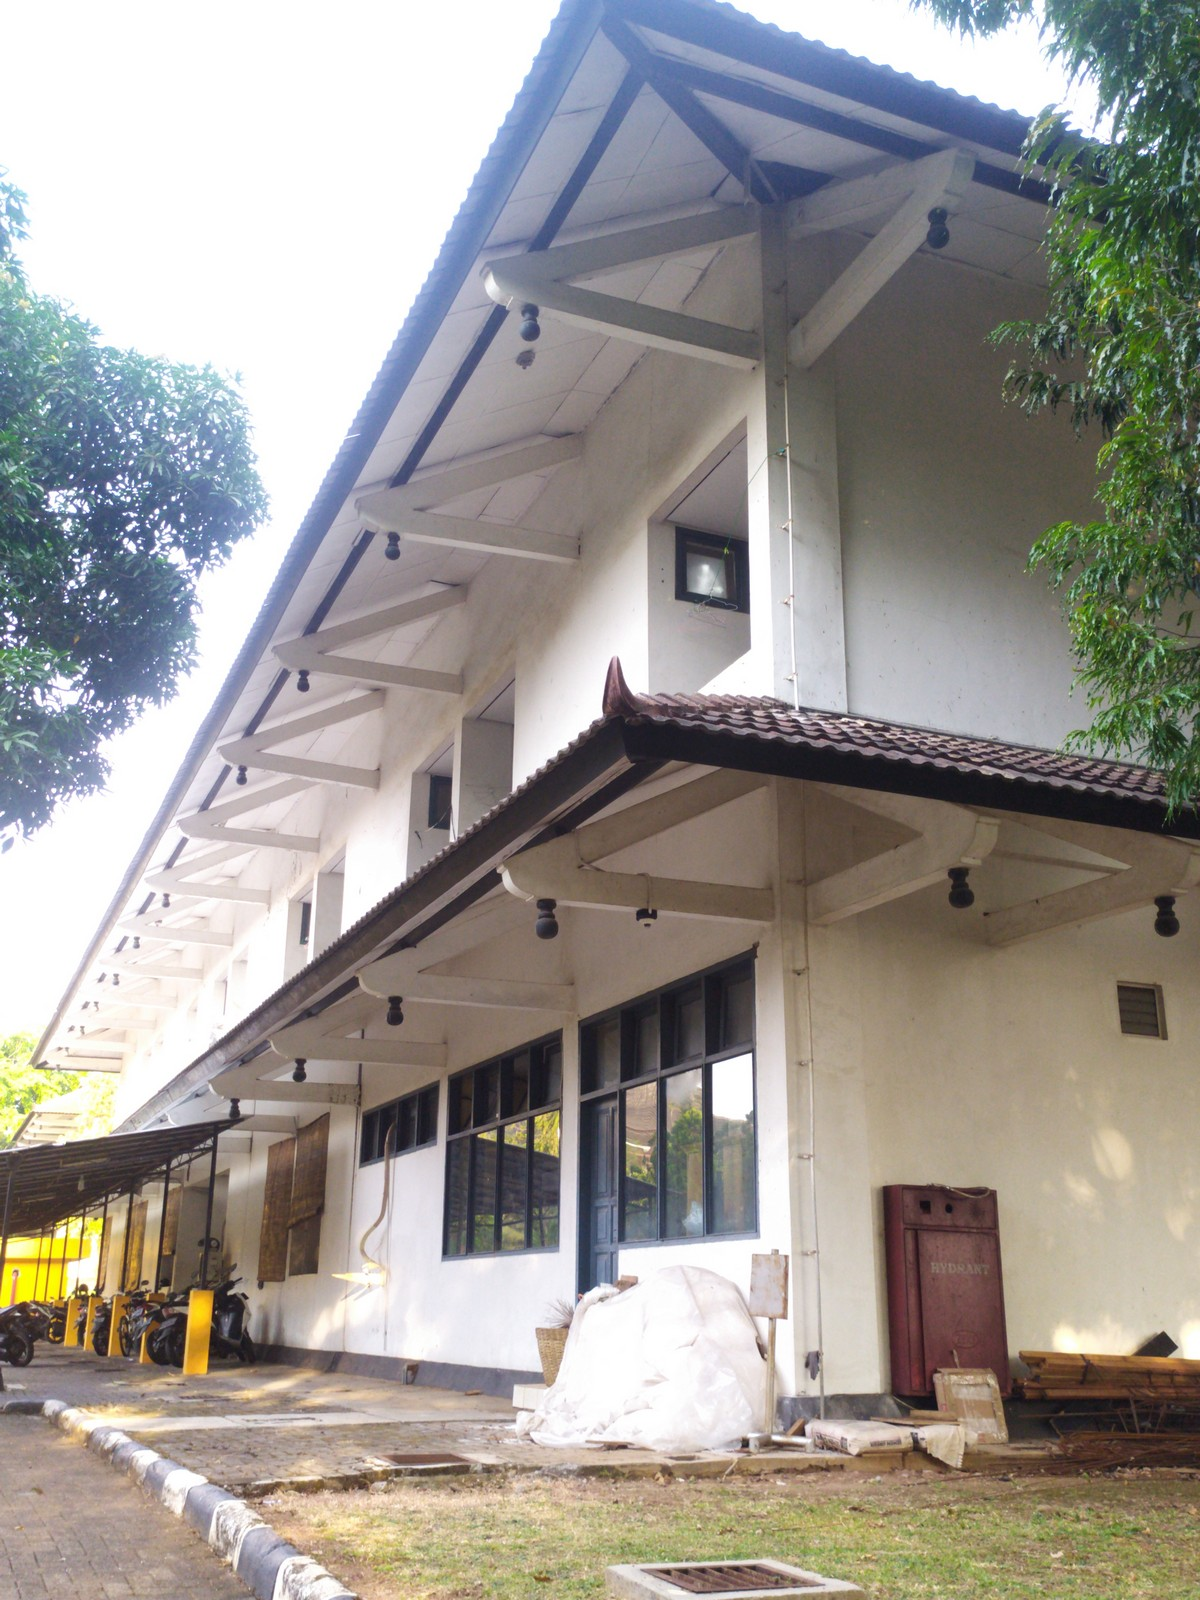concrete beam: (560, 283, 766, 377), (584, 863, 782, 936), (420, 505, 591, 574), (410, 968, 587, 1019), (325, 653, 471, 700), (311, 1027, 454, 1073), (263, 751, 396, 792)
concrete column: (747, 792, 887, 1419), (734, 198, 861, 717)
